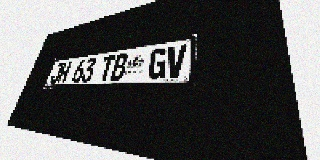3: (80, 58, 97, 82)
6: (71, 59, 87, 83)
B: (110, 53, 129, 81)
G: (147, 47, 168, 79)
H: (56, 61, 72, 83)
J: (49, 63, 64, 84)
T: (98, 55, 116, 81)
V: (165, 44, 187, 78)
